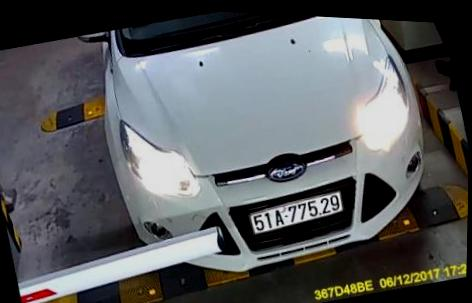License_Plate: (249, 185, 345, 249)
